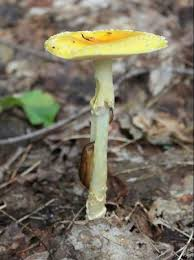slug: (78, 143, 97, 190)
